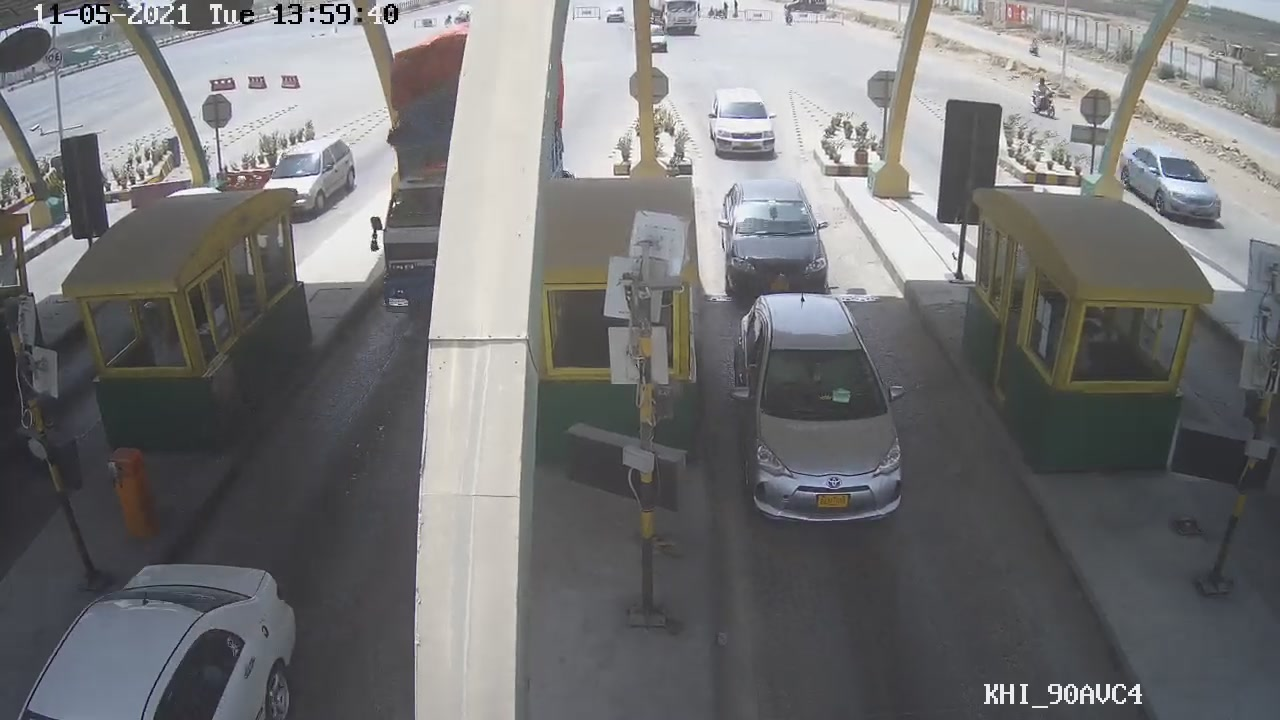F1: (721, 285, 917, 531)
